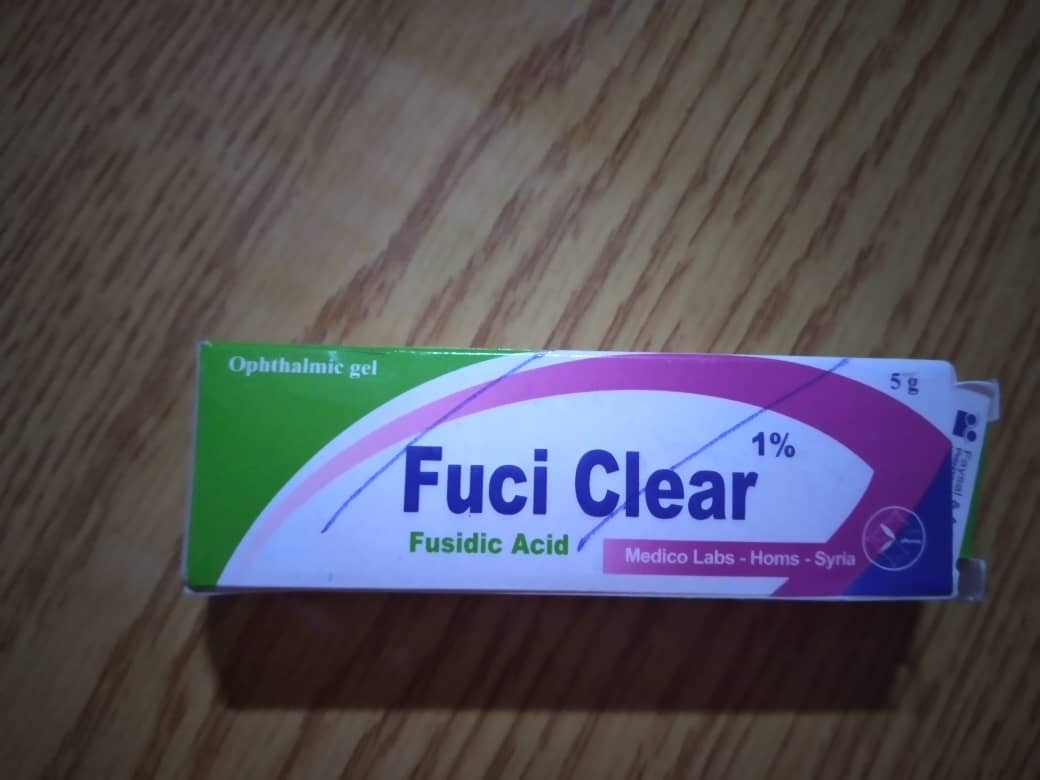Medicine: (178, 318, 978, 648)
